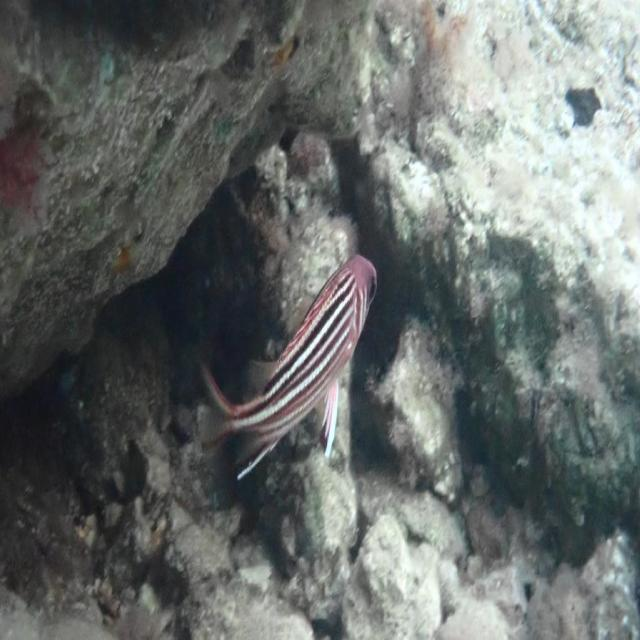Asker Baligi: (196, 250, 378, 483)
